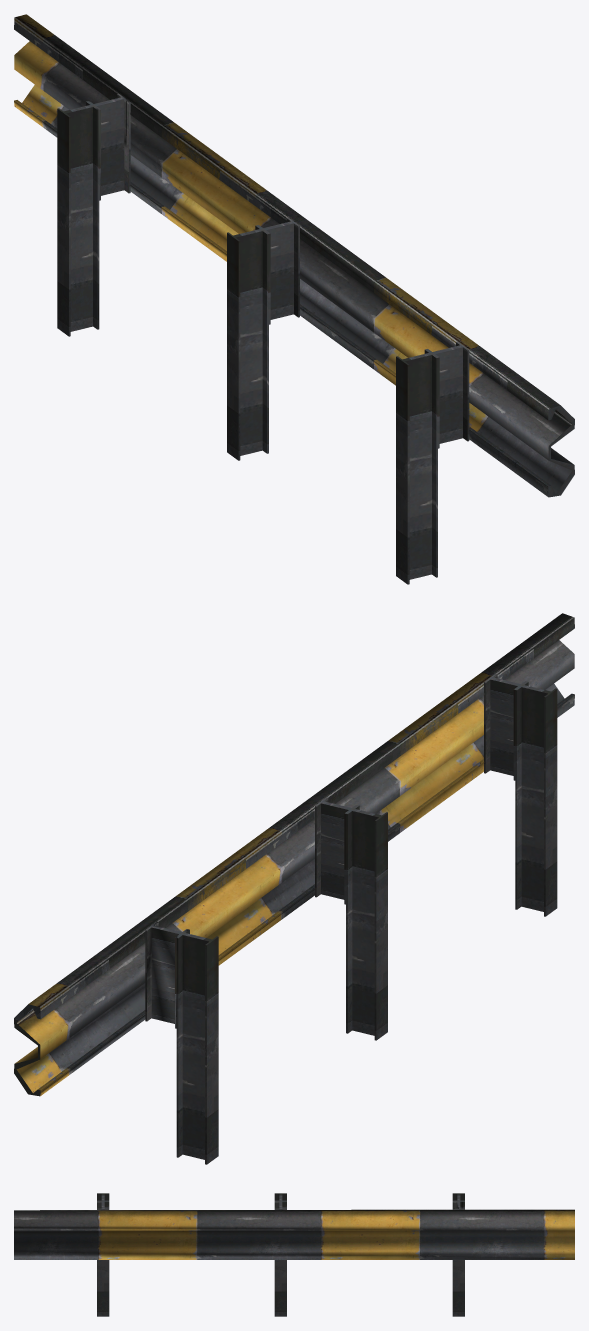
The model's file is Prop_TrackFence02.glb.
The picture shows the model from 3 angles, top to bottom: view 1: azimuth 30°, elevation 25°; view 2: azimuth 150°, elevation 25°; view 3: azimuth 270°, elevation 25°; orthographic projection. The views are drawn at different scales.
Parts seen in each view (by area): view 1: track_fence02; view 2: track_fence02; view 3: track_fence02.
Part boxes in pixels (x1,y1,x2,y2): track_fence02: (14, 14, 574, 584); track_fence02: (14, 613, 574, 1164); track_fence02: (14, 1193, 574, 1316).
Bounding box in the file's own units: 1.18 × 2.82 × 12.43.
1 material, 1 textured.
